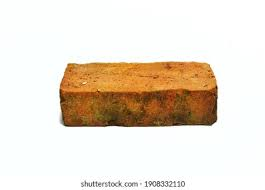brick: (65, 62, 217, 124)
